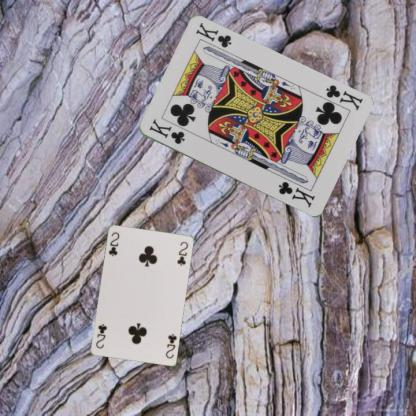2c: (163, 331, 178, 359), (106, 229, 120, 257)
Kc: (146, 116, 186, 146), (323, 82, 363, 112)
